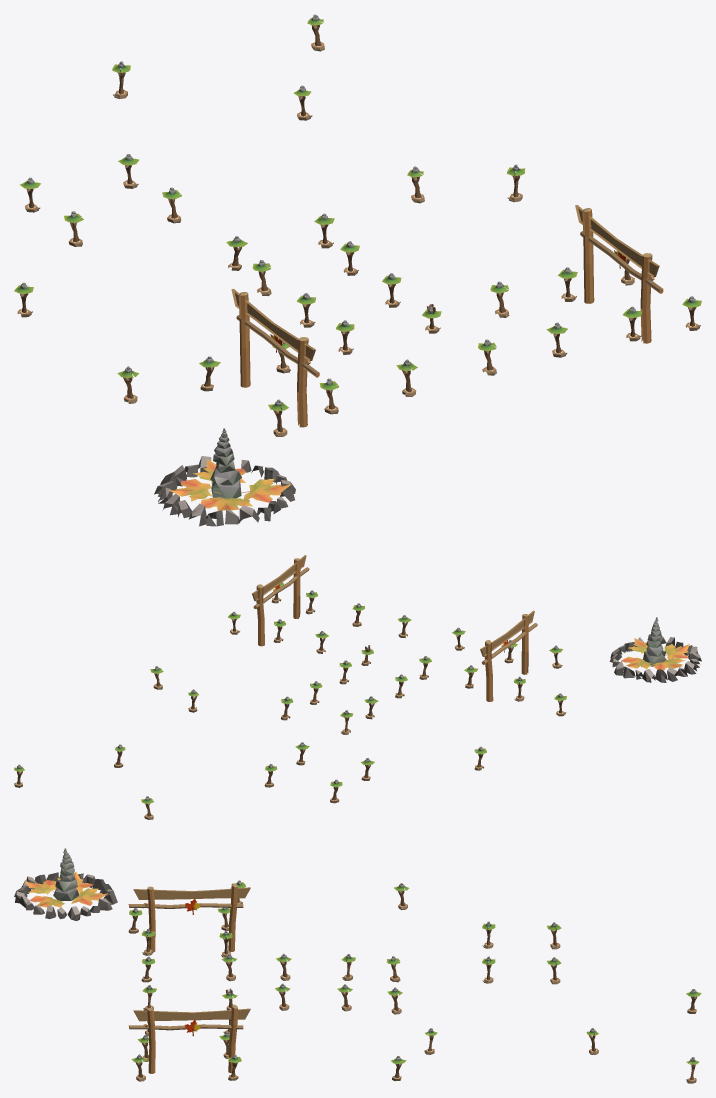
3 renders of one model, top to bottom at view 1: azimuth 30°, elevation 25°; view 2: azimuth 150°, elevation 25°; view 3: azimuth 270°, elevation 25°, orthographic. The views are drawn at different scales.
Parts seen in each view (by area): view 1: nestStage_22; view 2: nestStage_22; view 3: nestStage_22.
Part boxes in pixels (box(x1,y1,x2,y2)): nestStage_22: box(14, 14, 701, 526); nestStage_22: box(14, 555, 701, 819); nestStage_22: box(14, 848, 701, 1083).
Size of the model in its own units: 13.73 by 2.03 by 19.04.
